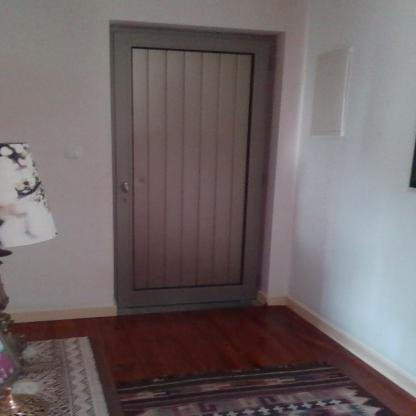door: (112, 22, 260, 305)
knob: (124, 182, 130, 194)
